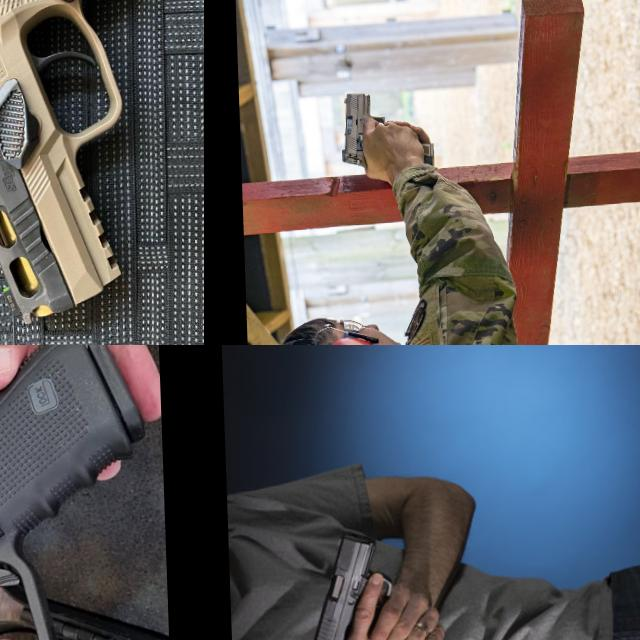handgun: (0, 0, 204, 332), (0, 345, 174, 640), (301, 523, 397, 640), (336, 89, 388, 170)
